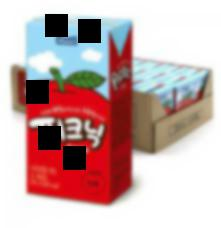picnic_apple: (27, 16, 131, 207)
